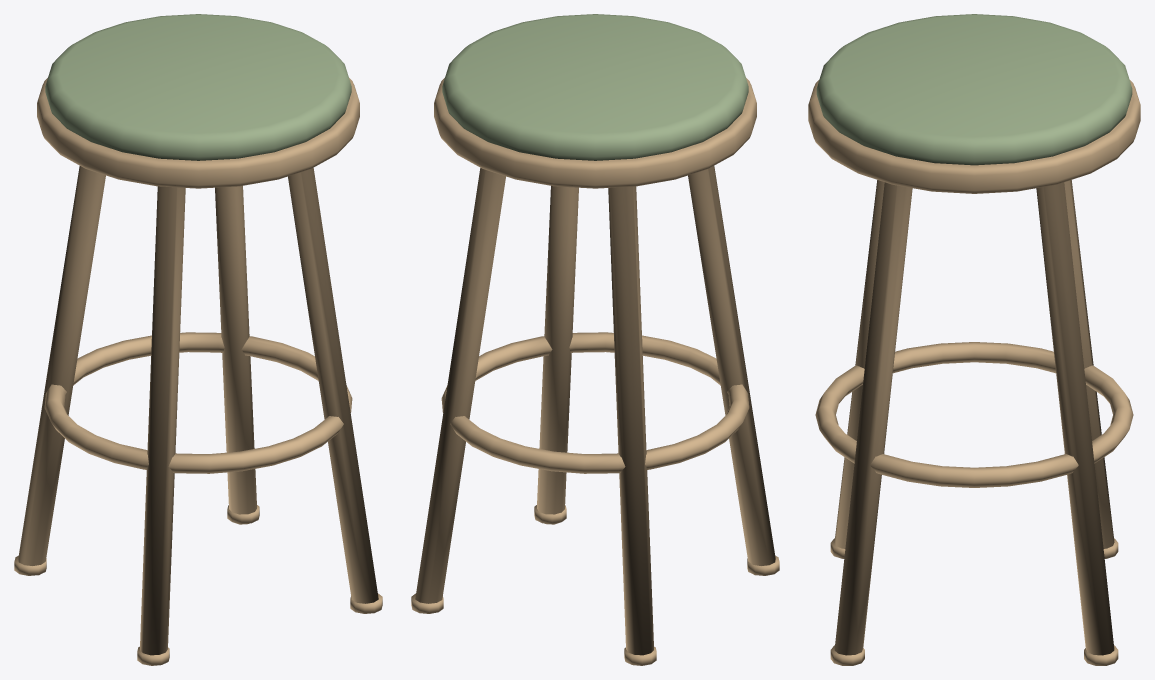
Rendered from stoolCounter.glb.
3 renders of one model, left to right at view 1: azimuth 30°, elevation 25°; view 2: azimuth 150°, elevation 25°; view 3: azimuth 270°, elevation 25°, orthographic. The views are drawn at different scales.
Visible parts, largest first — view 1: base, seat; view 2: base, seat; view 3: seat, base.
Part boxes in pixels (left/top/right/bottom): base: left=14, top=166, right=382, bottom=665; seat: left=37, top=14, right=359, bottom=188; base: left=411, top=166, right=779, bottom=665; seat: left=434, top=14, right=756, bottom=188; seat: left=808, top=14, right=1140, bottom=193; base: left=815, top=180, right=1133, bottom=665.
Size of the model in its own units: 0.39 by 0.6874 by 0.39.
